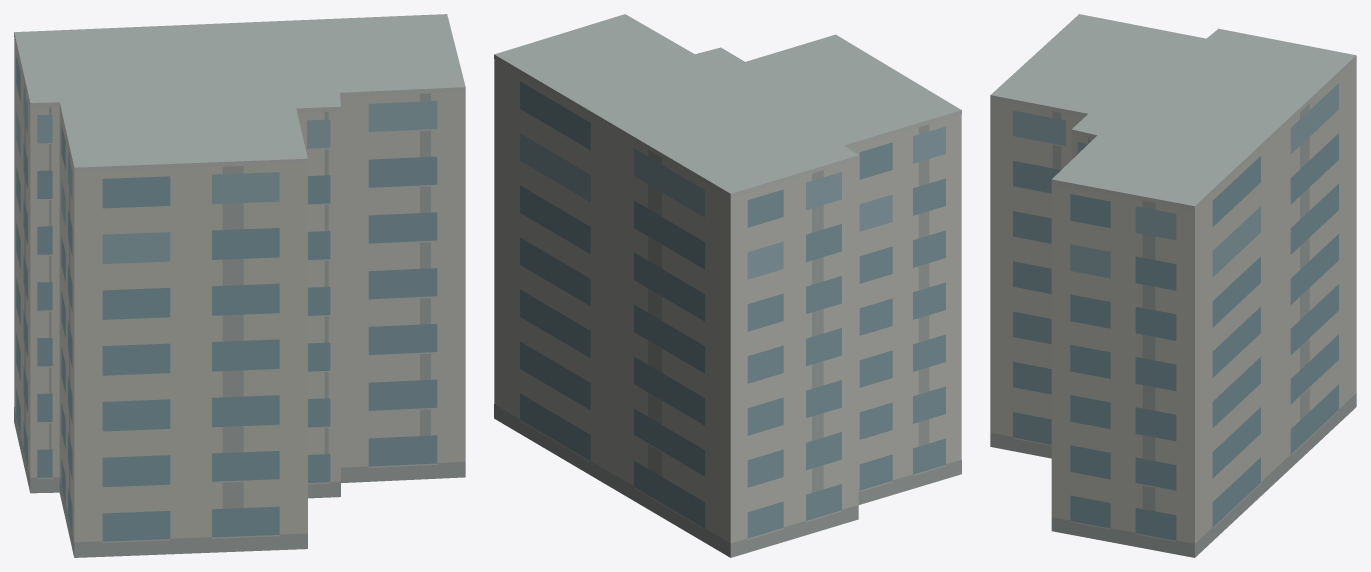
Rendered from survey-upis-32973319.glb.
3 views of the same model, side by side, from view 1: azimuth 30°, elevation 25°; view 2: azimuth 150°, elevation 25°; view 3: azimuth 270°, elevation 25° (orthographic). The views are drawn at different scales.
Visible parts, largest first — view 1: survey-upis-32973319.tmp; view 2: survey-upis-32973319.tmp; view 3: survey-upis-32973319.tmp.
Part boxes in pixels (<box>): survey-upis-32973319.tmp: <box>14,14,465,557</box>; survey-upis-32973319.tmp: <box>494,14,961,557</box>; survey-upis-32973319.tmp: <box>990,14,1356,557</box>.
Size of the model in its own units: 23.56 by 20.1 by 18.97.
